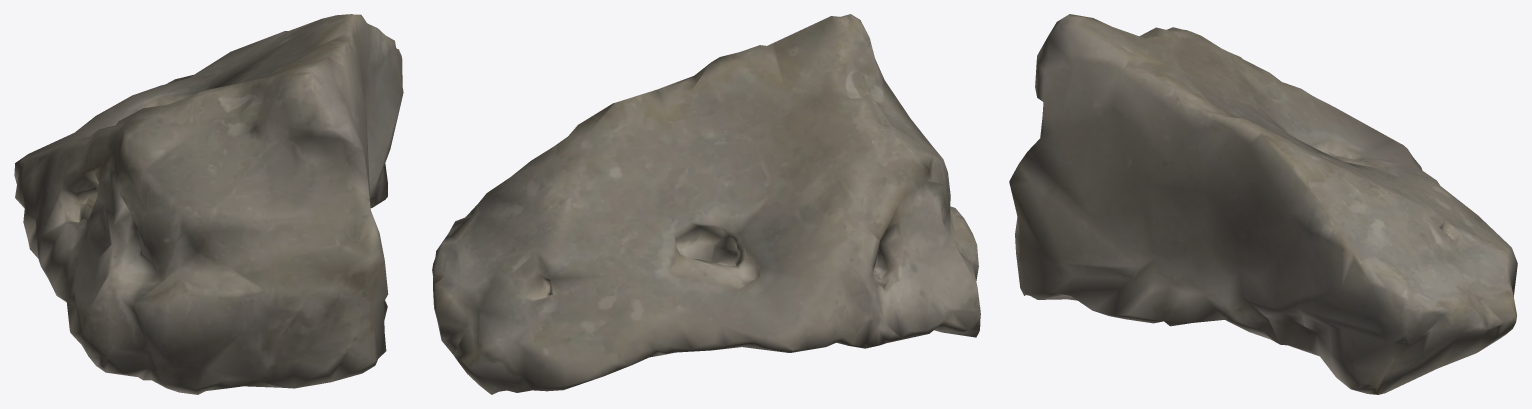
The model's file is moon_rock_06.glb.
3 renders of one model, left to right at view 1: azimuth 30°, elevation 25°; view 2: azimuth 150°, elevation 25°; view 3: azimuth 270°, elevation 25°, orthographic. The views are drawn at different scales.
Parts seen in each view (by area): view 1: moon_rock_06_LOD0; view 2: moon_rock_06_LOD0; view 3: moon_rock_06_LOD0.
Boxes of the visible parts, x1,y1,x2,y2 form: moon_rock_06_LOD0: (14,14,403,394); moon_rock_06_LOD0: (432,14,980,394); moon_rock_06_LOD0: (1009,14,1517,394).
Size of the model in its own units: 0.0855 by 0.055 by 0.0918.
1 material, 1 textured.
